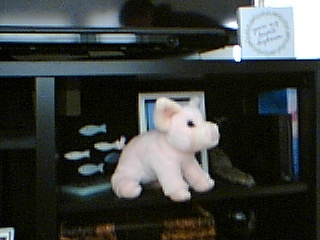piggy: (109, 95, 222, 204)
